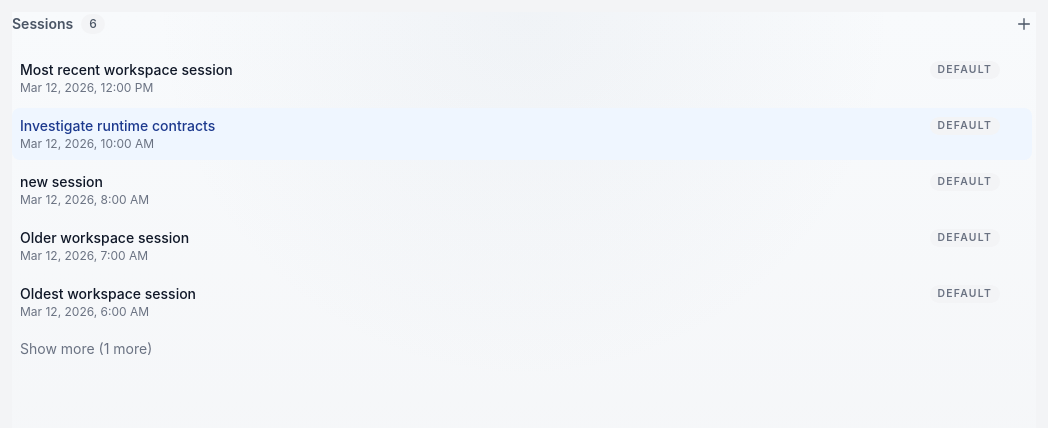
Test: SessionList › shows a lightweight show more control directly under the visible session list
Expected: the text "Very oldest workspace session" is not shown
Click the button "Show more (1 more)" at (86, 349), box [12,339,160,359]
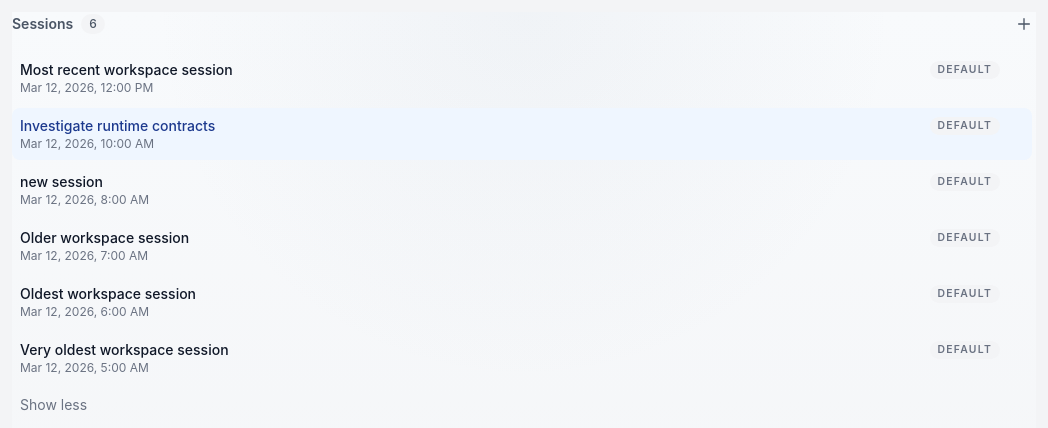
Expected: the text "Very oldest workspace session" is shown, [20,340,229,360]
